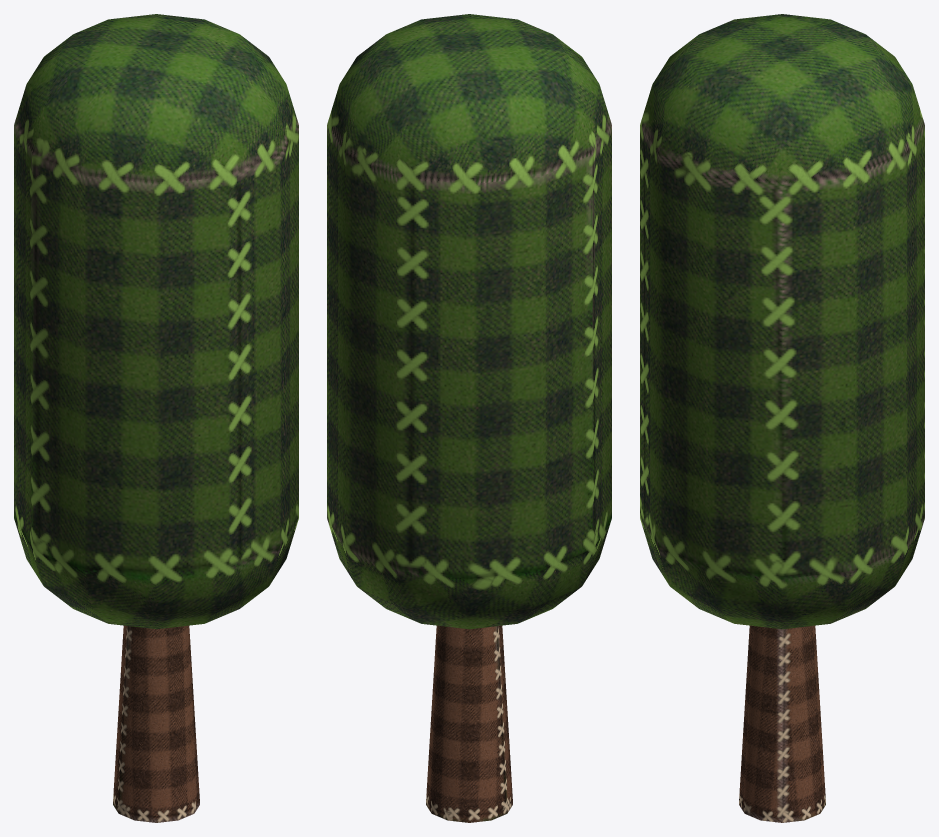
The model's file is lpb_cs_tree6.fbx.
3 renders of one model, left to right at view 1: azimuth 30°, elevation 25°; view 2: azimuth 150°, elevation 25°; view 3: azimuth 270°, elevation 25°, orthographic.
Parts seen in each view (by area): view 1: lpb_cs_tree6; view 2: lpb_cs_tree6; view 3: lpb_cs_tree6.
Part boxes in pixels (x1,y1,x2,y2): lpb_cs_tree6: (14,14,298,822); lpb_cs_tree6: (327,14,611,822); lpb_cs_tree6: (640,14,924,822).
Size of the model in its own units: 69.74 by 206 by 69.74.
